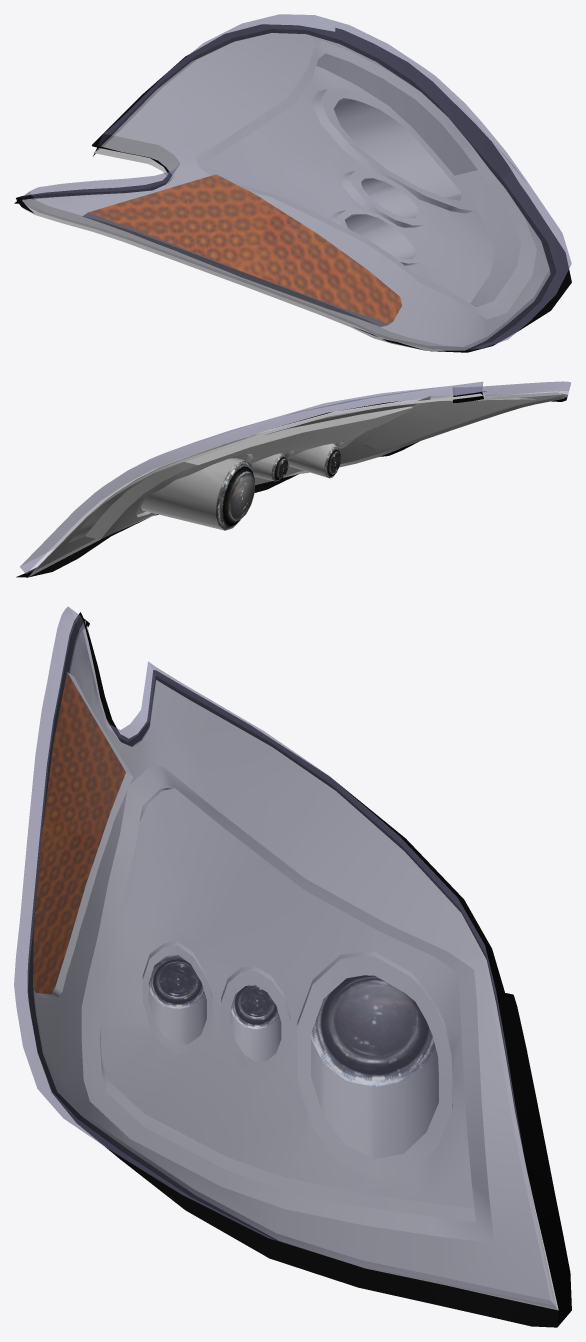
The picture shows the model from 3 angles, top to bottom: view 1: azimuth 30°, elevation 25°; view 2: azimuth 150°, elevation 25°; view 3: azimuth 270°, elevation 25°; orthographic projection. The views are drawn at different scales.
Parts seen in each view (by area): view 1: Y192_061B_R_Y192_061B_R_7_DTaSI, Y192_061B_R_Y192_061B_R_4_DaS, Y192_061B_R_Y192_061B_R_6_N, Y192_061B_R_Y192_061B_R_8_D; view 2: Y192_061B_R_Y192_061B_R_4_DaS, Y192_061B_R_Y192_061B_R_7_DTaSI, Y192_061B_R_1_N_Y192_061B_R, Y192_061B_R_Y192_061B_R_8_D, Y192_061B_R_Y192_061B_R_3_N, Y192_061B_R_Y192_061B_R_2_N; view 3: Y192_061B_R_Y192_061B_R_7_DTaSI, Y192_061B_R_Y192_061B_R_4_DaS, Y192_061B_R_Y192_061B_R_8_D, Y192_061B_R_Y192_061B_R_6_N, Y192_061B_R_1_N_Y192_061B_R, Y192_061B_R_Y192_061B_R_3_N, Y192_061B_R_Y192_061B_R_2_N.
Boxes of the visible parts, <box> form: Y192_061B_R_Y192_061B_R_7_DTaSI: <box>21,14,571,350</box>; Y192_061B_R_Y192_061B_R_4_DaS: <box>22,33,550,350</box>; Y192_061B_R_Y192_061B_R_6_N: <box>89,174,401,322</box>; Y192_061B_R_Y192_061B_R_8_D: <box>14,24,571,352</box>; Y192_061B_R_Y192_061B_R_4_DaS: <box>28,392,567,577</box>; Y192_061B_R_Y192_061B_R_7_DTaSI: <box>20,381,570,573</box>; Y192_061B_R_1_N_Y192_061B_R: <box>215,460,254,530</box>; Y192_061B_R_Y192_061B_R_8_D: <box>16,391,567,577</box>; Y192_061B_R_Y192_061B_R_3_N: <box>324,446,340,478</box>; Y192_061B_R_Y192_061B_R_2_N: <box>271,454,288,481</box>; Y192_061B_R_Y192_061B_R_7_DTaSI: <box>14,607,556,1308</box>; Y192_061B_R_Y192_061B_R_4_DaS: <box>33,620,558,1310</box>; Y192_061B_R_Y192_061B_R_8_D: <box>28,612,571,1327</box>; Y192_061B_R_Y192_061B_R_6_N: <box>33,672,125,994</box>; Y192_061B_R_1_N_Y192_061B_R: <box>311,975,435,1086</box>; Y192_061B_R_Y192_061B_R_3_N: <box>148,955,204,1009</box>; Y192_061B_R_Y192_061B_R_2_N: <box>230,985,278,1029</box>.
Size of the model in its own units: 61.7 by 27.76 by 39.26.
